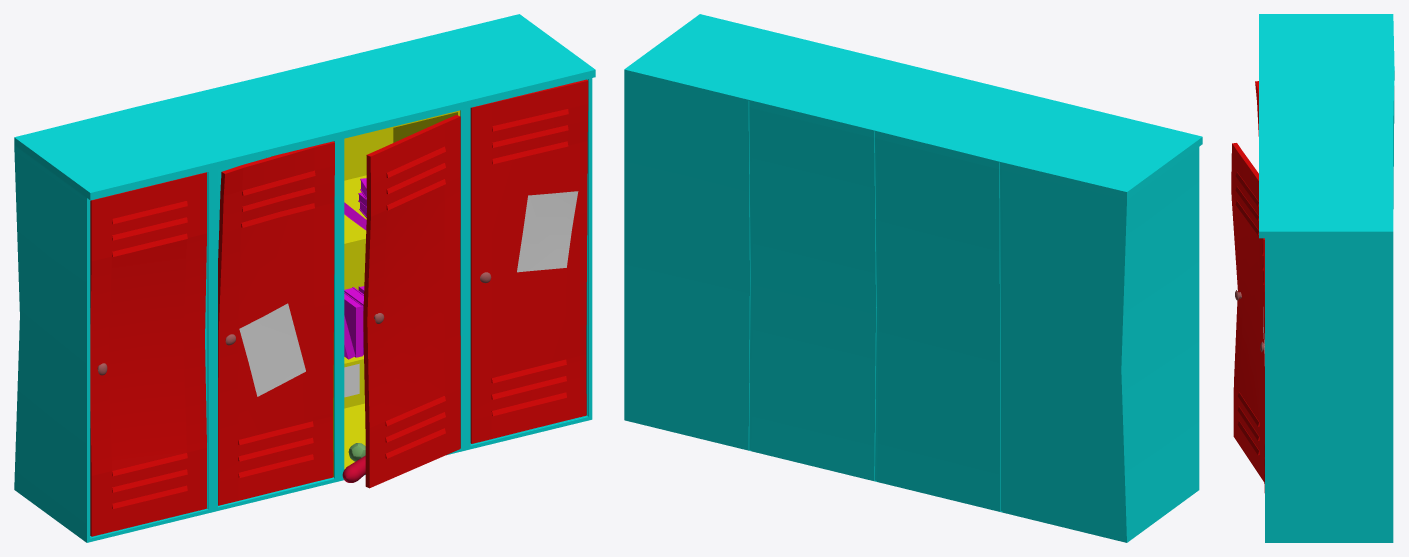
File: locker_low.fbx
3 views of the same model, side by side, from view 1: azimuth 30°, elevation 25°; view 2: azimuth 150°, elevation 25°; view 3: azimuth 270°, elevation 25° (orthographic). The views are drawn at different scales.
Visible parts, largest first — view 1: Handel5, Paper1, Book; view 2: Handel5; view 3: Handel5.
Part boxes in pixels (x1,y1,x2,y2): Handel5: (14, 14, 595, 542); Paper1: (239, 191, 578, 397); Book: (344, 178, 366, 359); Handel5: (624, 14, 1202, 542); Handel5: (1231, 14, 1394, 542).
Bounding box in the file's own units: 300 × 200 × 94.96.
